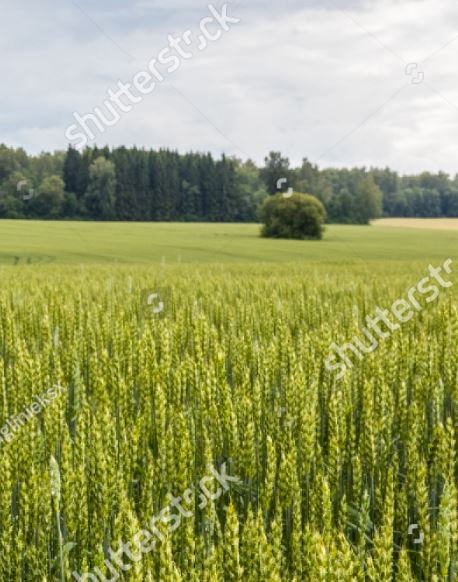Wheat: (75, 338, 438, 571)
